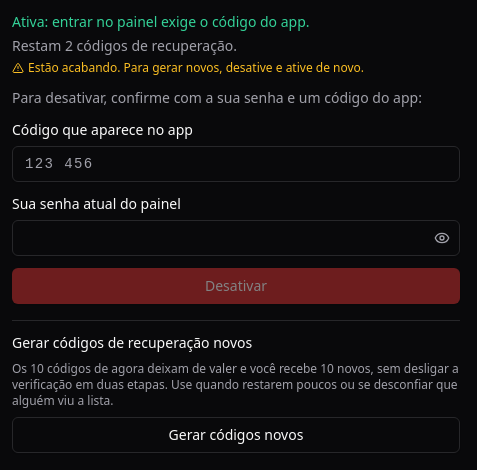
Scenario: TwoFactorPanel — ligada › mostra o saldo de códigos (avisa quando está acabando) e desativa com senha + código
The width and height of the screenshot is (477, 470).
Expected: the element with test id "two-factor-on" shows "Ativa", [12,12,310,31]
Expected: the element with test id "two-factor-on" shows "2 códigos de recuperação", [12,36,237,55]
Type "MinhaSenha123" into the password field labelled "Sua senha atual do painel". click: (236, 238)
box: [12,220,460,256]
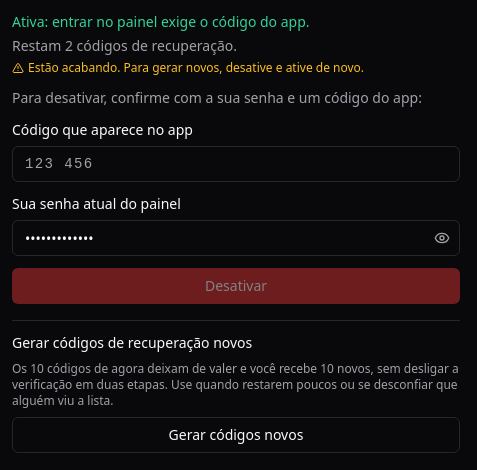
Type "654321" into the field labelled "Código que aparece no app". click: (236, 164)
box: [12,146,460,182]
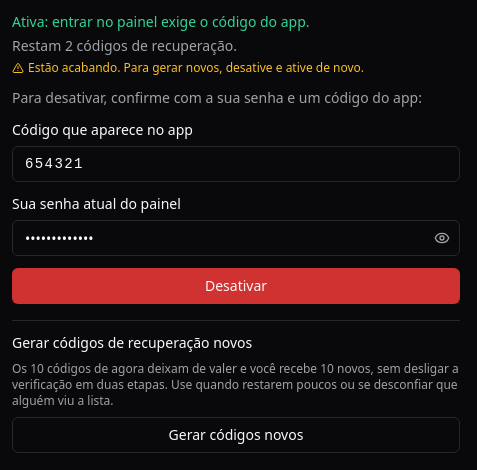
Click the button "Desativar". click: (236, 286)
box: [12,268,460,304]
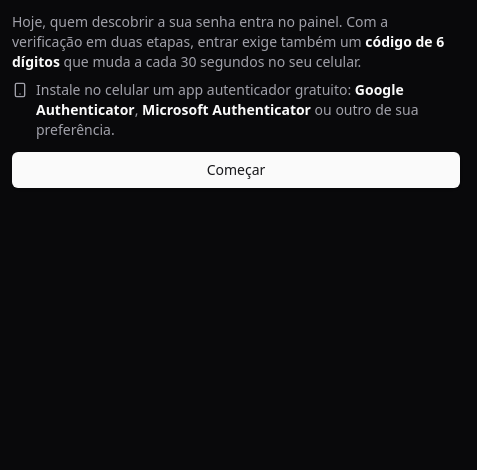
Expected: the element with test id "two-factor-intro" is shown, [12,12,460,140]
